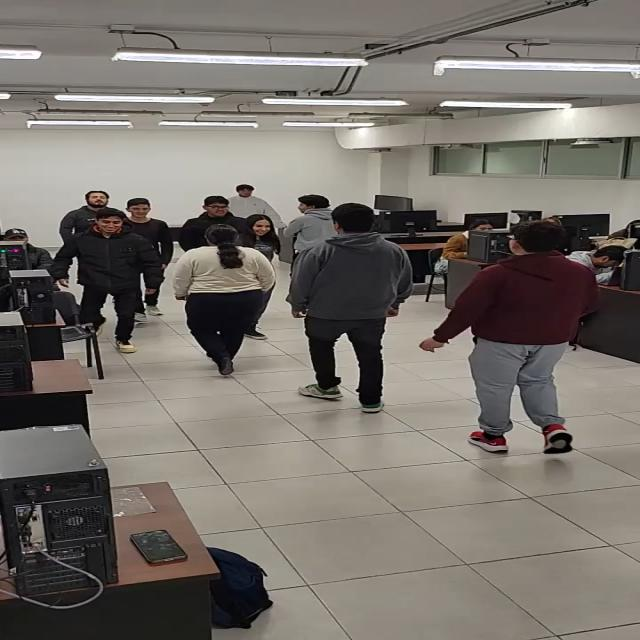Persona: (432, 216, 604, 457), (288, 203, 412, 414), (173, 224, 264, 385), (59, 212, 140, 358), (130, 192, 169, 321), (189, 194, 247, 248)
